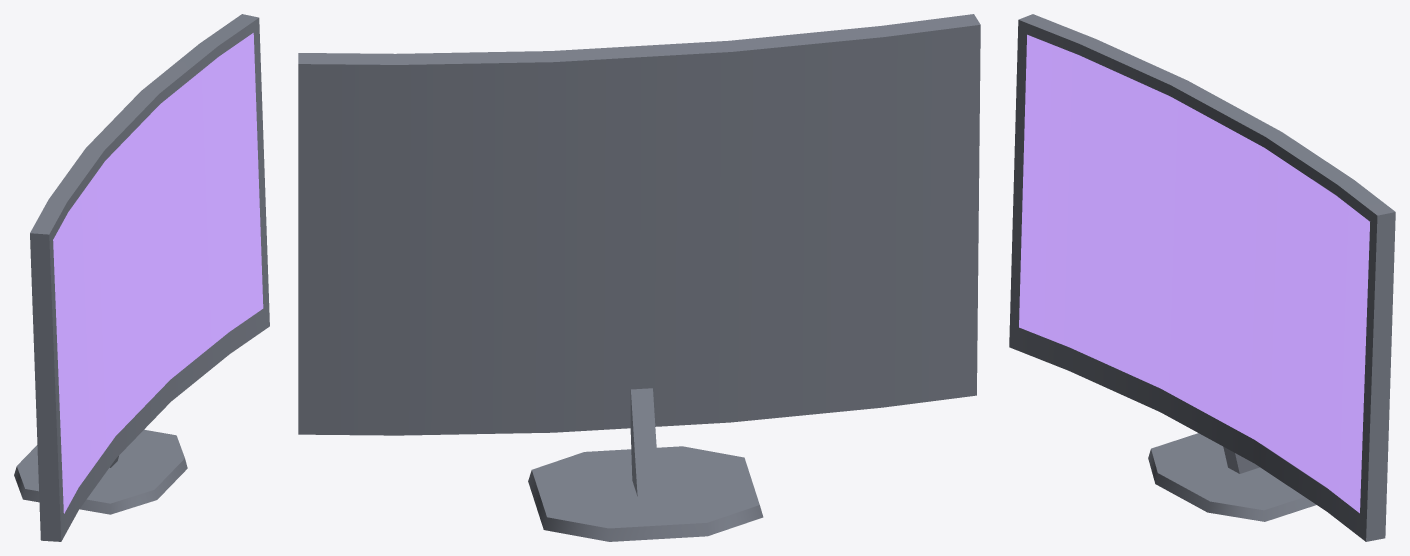
The model's file is monitor_curved.glb.
3 renders of one model, left to right at view 1: azimuth 30°, elevation 25°; view 2: azimuth 150°, elevation 25°; view 3: azimuth 270°, elevation 25°, orthographic. The views are drawn at different scales.
Visible parts, largest first — view 1: electronics.026; view 2: electronics.026; view 3: electronics.026.
Part boxes in pixels (x1,y1,x2,y2): electronics.026: (14, 14, 269, 541); electronics.026: (298, 14, 980, 541); electronics.026: (1009, 14, 1395, 541).
Bounding box in the file's own units: 0.5523 × 0.4713 × 0.4399.
